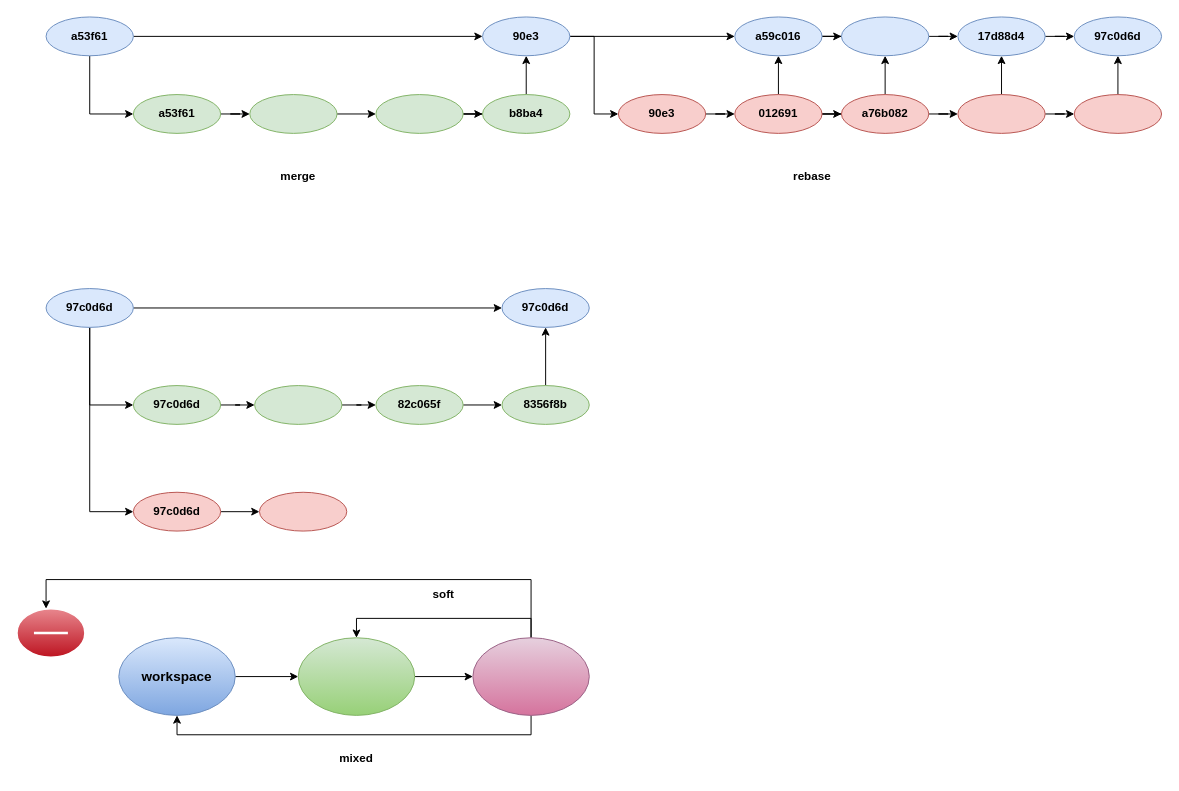
Some shapes in this 1179 by 791 pixel diagram are drawn without their labels. The centre of each missing label's shape, as x and y in pixels:
07e842: (x=419, y=113)
0deac7f: (x=885, y=36)
306e973: (x=1117, y=113)
39f286: (x=293, y=113)
430a957: (x=1001, y=113)
af9736d: (x=303, y=511)
f147d45: (x=298, y=404)
local repo: (x=530, y=676)
staging: (x=356, y=676)
